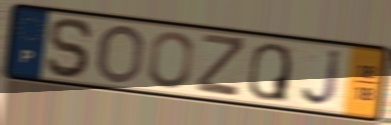J: (299, 47, 344, 109)
O: (93, 22, 147, 86), (146, 30, 196, 91)
Q: (246, 41, 293, 105)
S: (44, 16, 96, 81)
Z: (194, 32, 248, 100)
